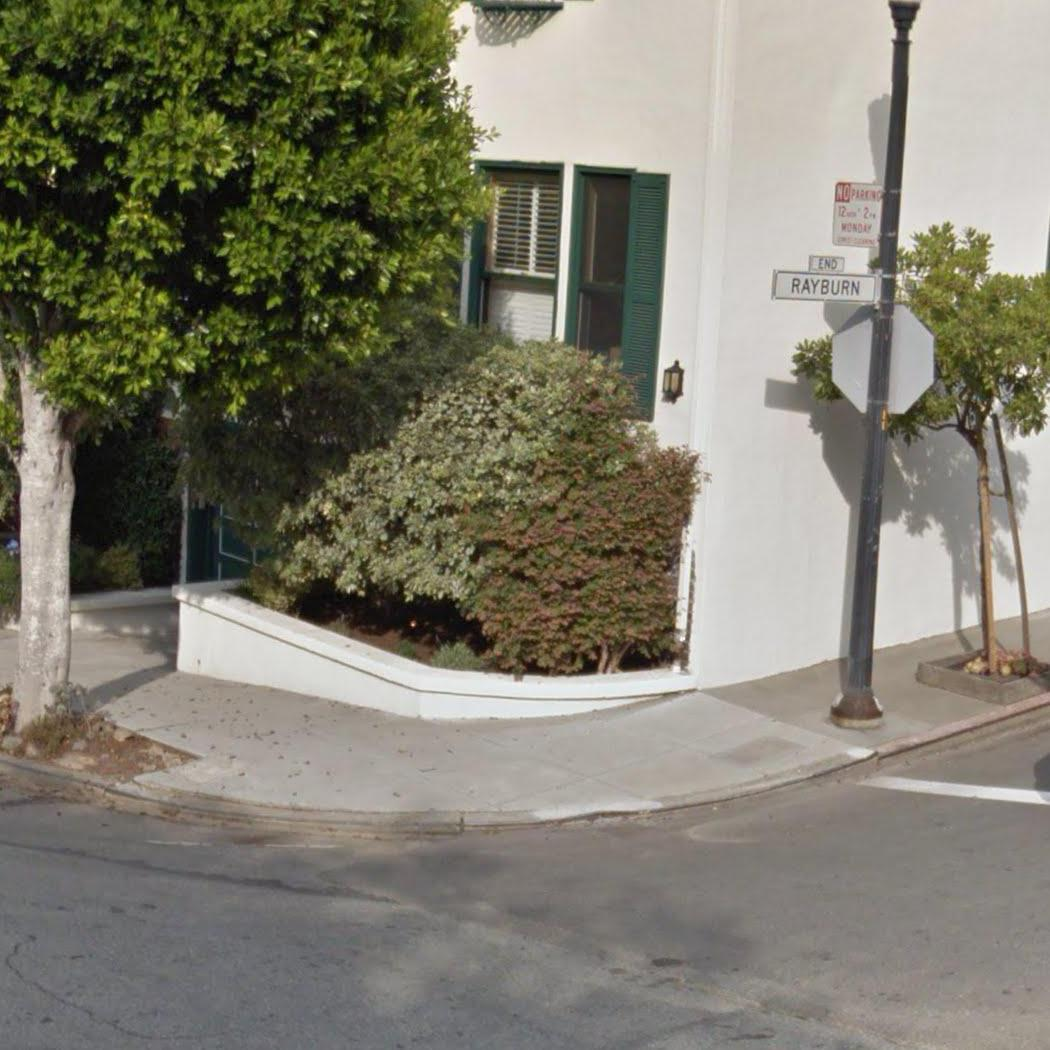No Parking: (829, 179, 888, 252)
